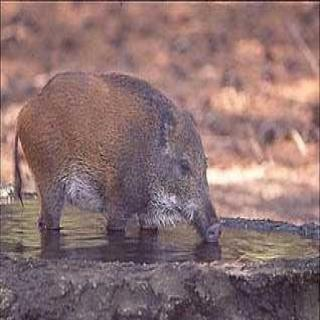Pig: (10, 46, 236, 268)
